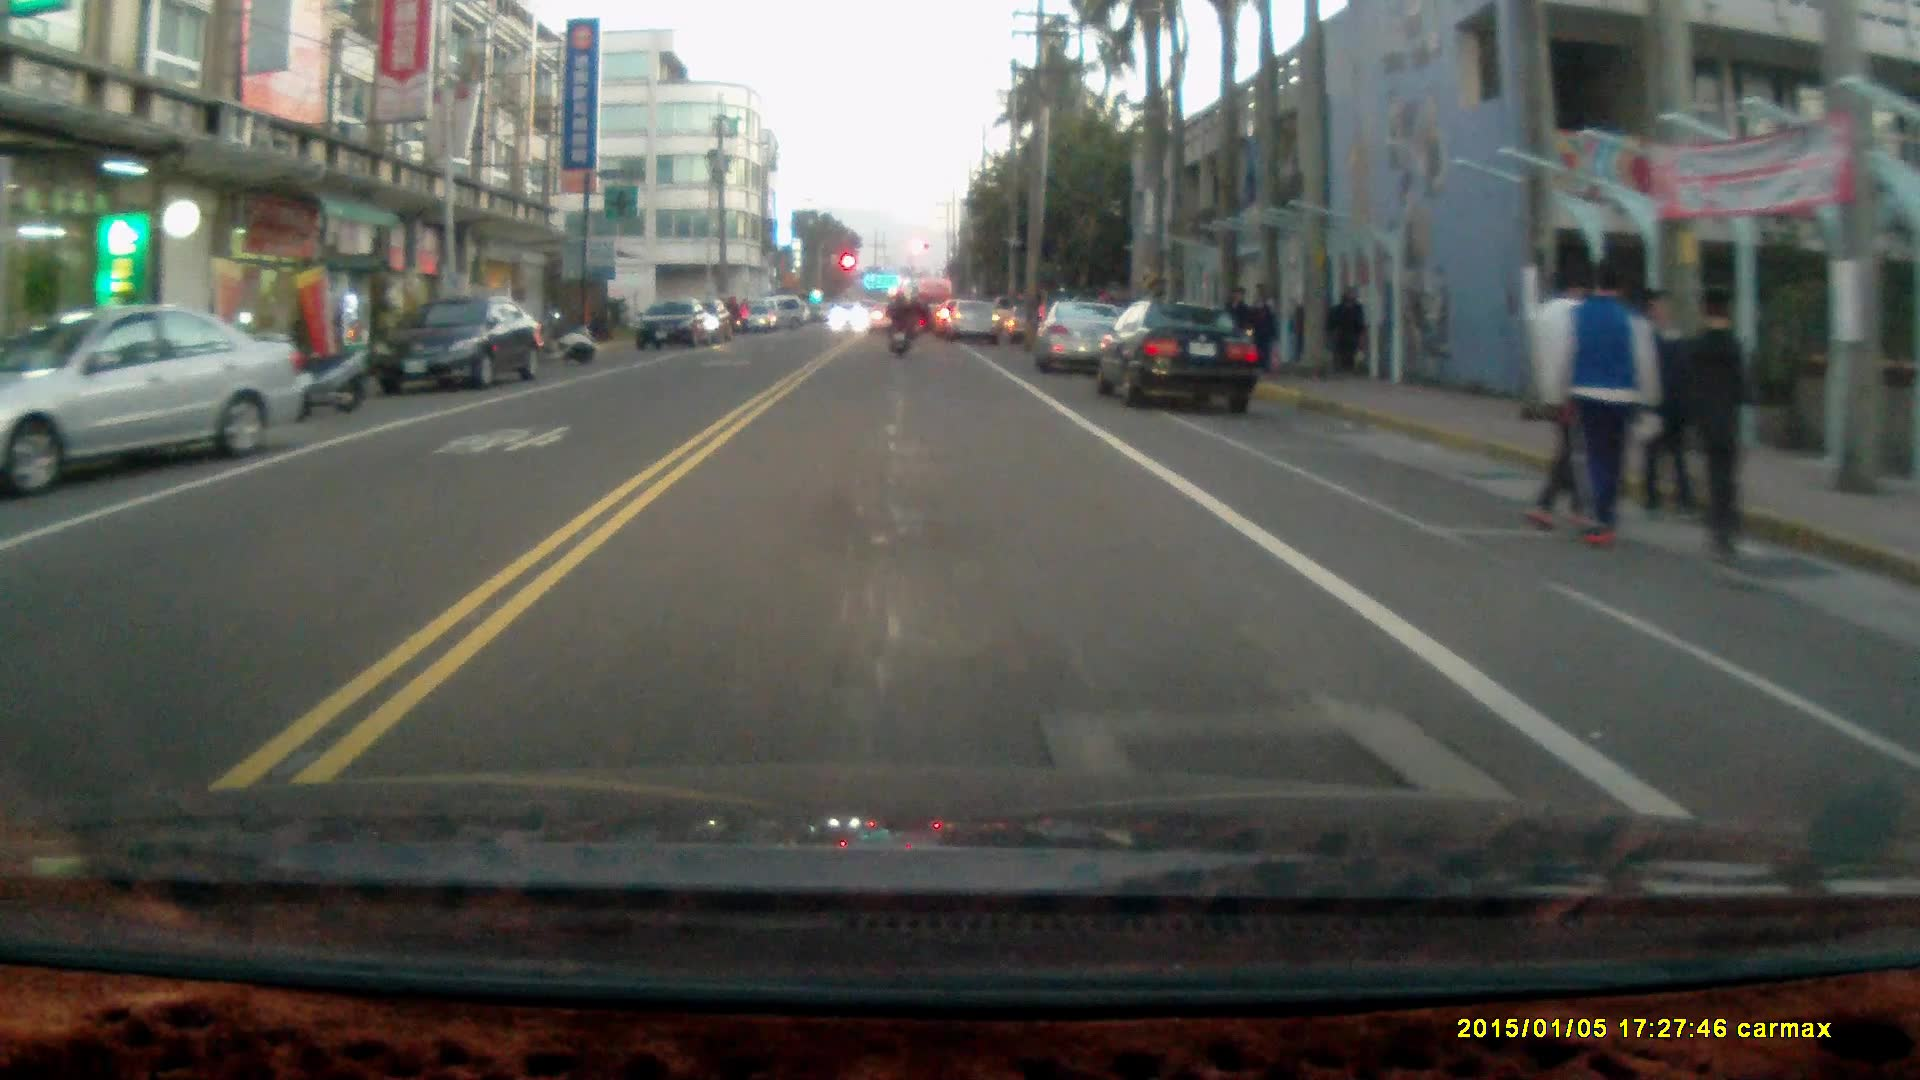pedestrian: (1553, 252, 1660, 547), (1679, 284, 1760, 565), (1525, 265, 1601, 533), (1636, 288, 1701, 527), (1327, 280, 1368, 383), (1243, 287, 1276, 376)
rider: (883, 284, 914, 356)
vehicle: (1, 302, 315, 486), (1096, 296, 1265, 412), (379, 290, 544, 391), (1035, 299, 1132, 377), (632, 294, 722, 350), (951, 296, 1005, 341)
